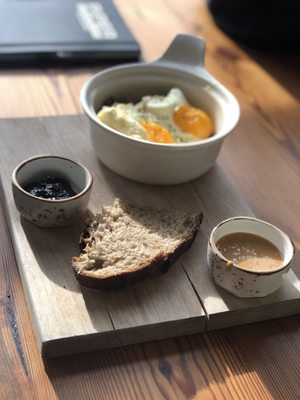sushi: (80, 48, 240, 187), (207, 216, 295, 298), (11, 154, 95, 228)
